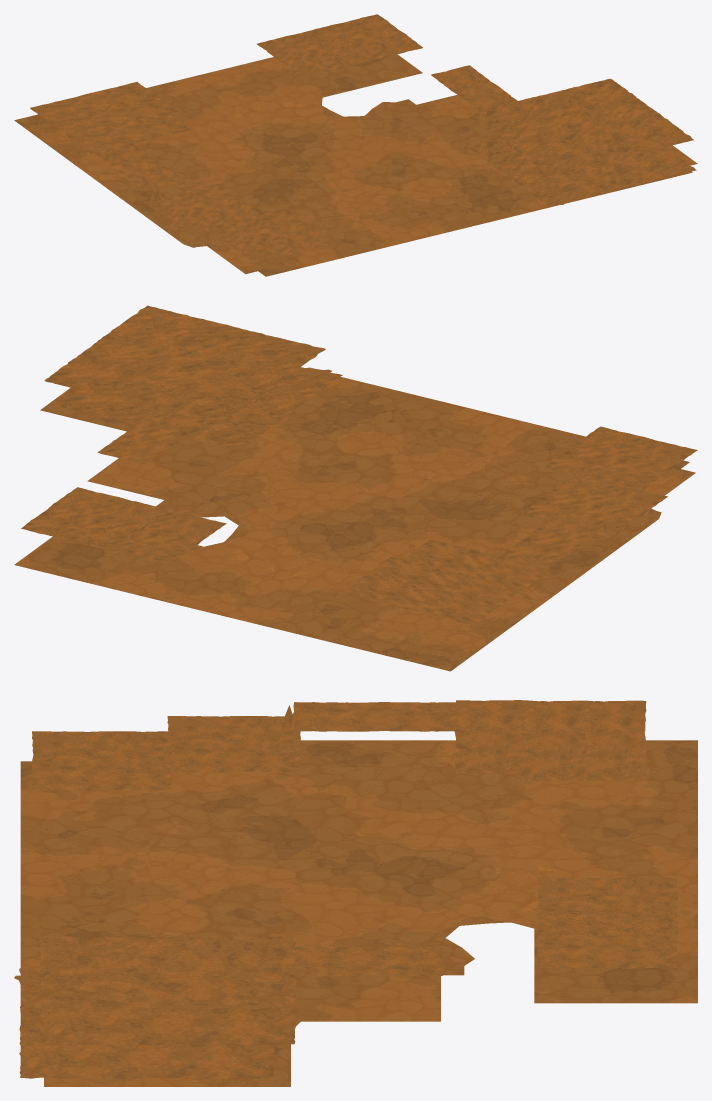
Rendered from Floor_Ruin6.fbx.
3 renders of one model, top to bottom at view 1: azimuth 30°, elevation 25°; view 2: azimuth 150°, elevation 25°; view 3: azimuth 270°, elevation 25°, orthographic. The views are drawn at different scales.
Parts seen in each view (by area): view 1: EEEEEE; view 2: EEEEEE; view 3: EEEEEE.
Boxes of the visible parts, x1,y1,x2,y2 form: EEEEEE: [14, 14, 697, 276]; EEEEEE: [14, 305, 697, 671]; EEEEEE: [14, 700, 697, 1086].
Bounding box in the file's own units: 5640 × 296 × 4677.
